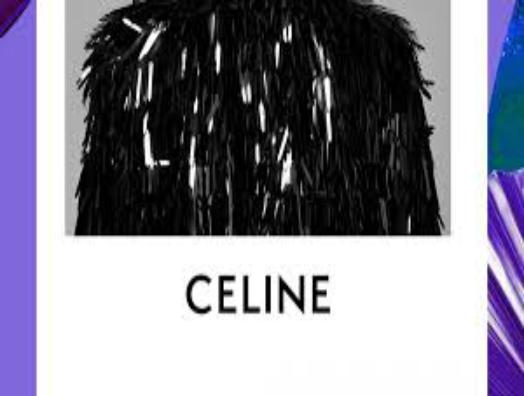CELINE: (183, 264, 335, 325)
